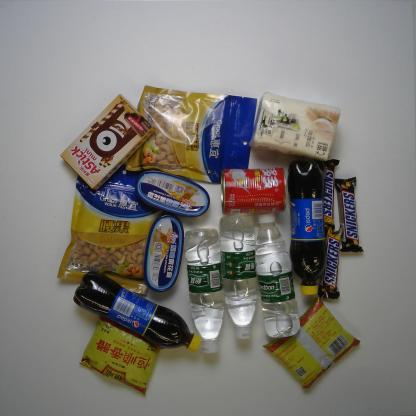Canned Food: (132, 168, 211, 218), (140, 212, 186, 294), (218, 164, 287, 215)
Chocolate: (334, 176, 366, 254), (315, 224, 345, 302), (319, 156, 341, 234)
Dessert: (58, 93, 157, 193)
Dried Fruit: (56, 164, 166, 298), (124, 82, 259, 186)
Drink: (71, 270, 203, 353), (285, 159, 329, 297), (255, 212, 302, 339), (182, 225, 226, 355), (218, 211, 259, 341)
Seasoner: (261, 294, 364, 392), (77, 314, 167, 399)
Tissue: (247, 91, 342, 163)
